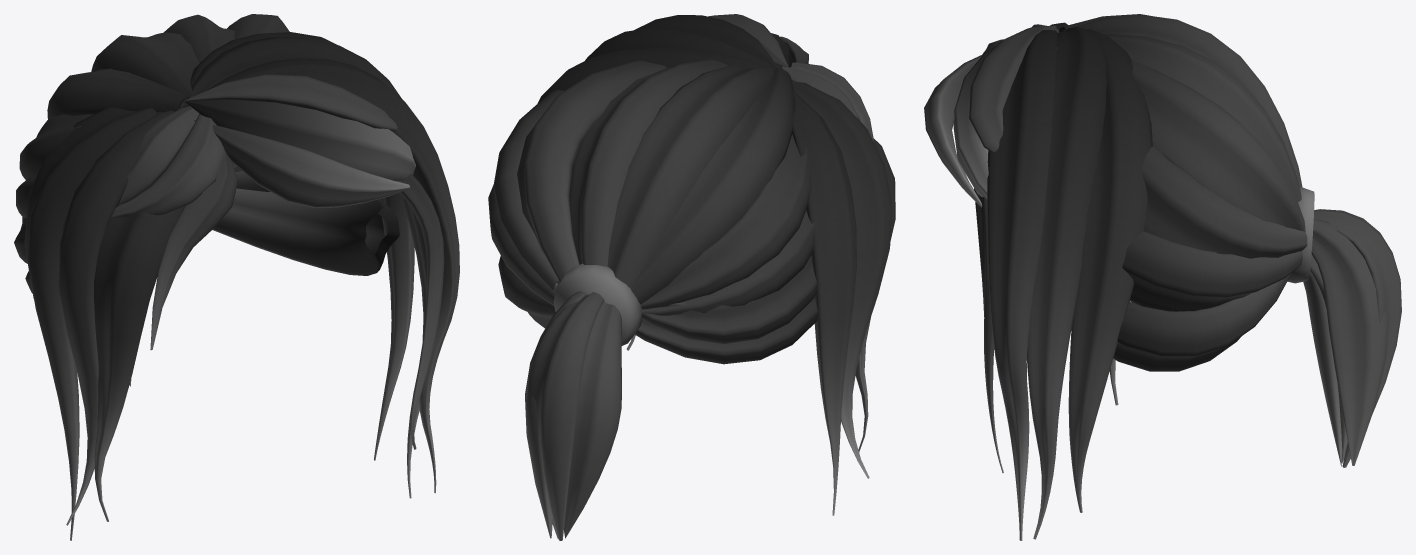
The model's file is haira3.fbx.
The picture shows the model from 3 angles, left to right: view 1: azimuth 30°, elevation 25°; view 2: azimuth 150°, elevation 25°; view 3: azimuth 270°, elevation 25°; orthographic projection. The views are drawn at different scales.
Visible parts, largest first — view 1: NurbsPath.015; view 2: NurbsPath.015; view 3: NurbsPath.015.
Part boxes in pixels (left/top/right/bottom): NurbsPath.015: left=14, top=14, right=459, bottom=540; NurbsPath.015: left=488, top=14, right=895, bottom=540; NurbsPath.015: left=924, top=14, right=1401, bottom=540.
Bounding box in the file's own units: 348 × 294 × 355.
